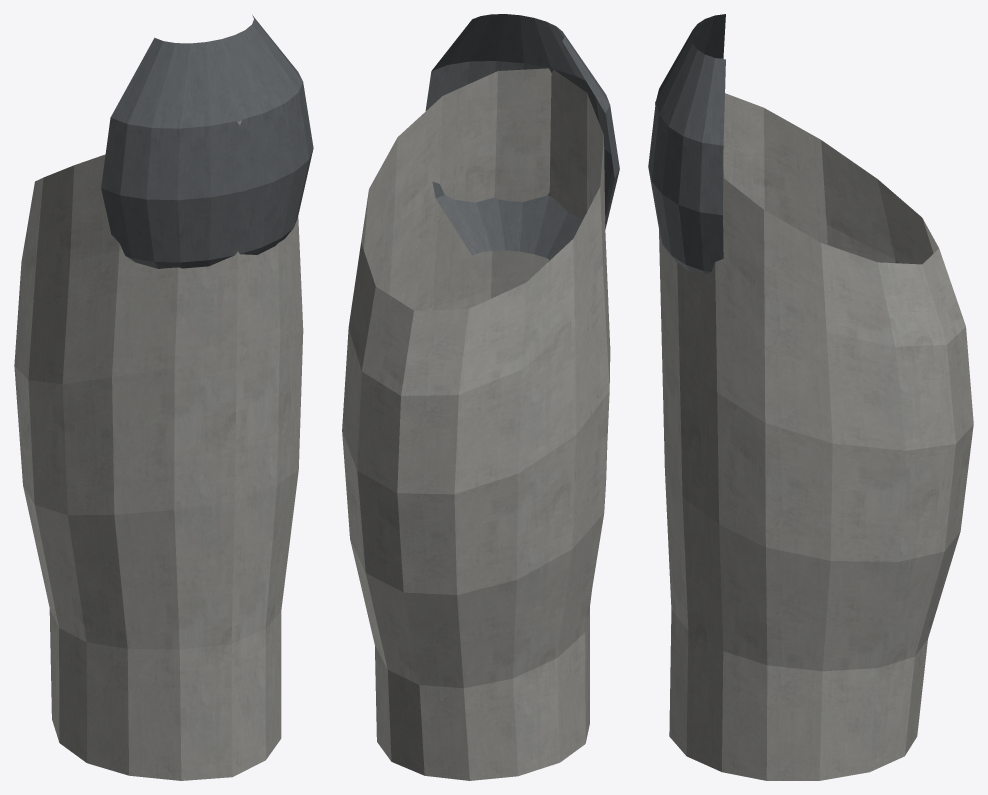
File: eq_future_1_leg.glb
3 renders of one model, left to right at view 1: azimuth 30°, elevation 25°; view 2: azimuth 150°, elevation 25°; view 3: azimuth 270°, elevation 25°, orthographic. The views are drawn at different scales.
Parts seen in each view (by area): view 1: eq_future_1_leg; view 2: eq_future_1_leg; view 3: eq_future_1_leg.
Part boxes in pixels (box(x1,y1,x2,y2)): eq_future_1_leg: box(14, 15, 313, 780); eq_future_1_leg: box(342, 14, 619, 780); eq_future_1_leg: box(648, 14, 973, 780).
Bounding box in the file's own units: 0.1479 × 0.43 × 0.1813.
Materials: 2 (2 with a texture image).
